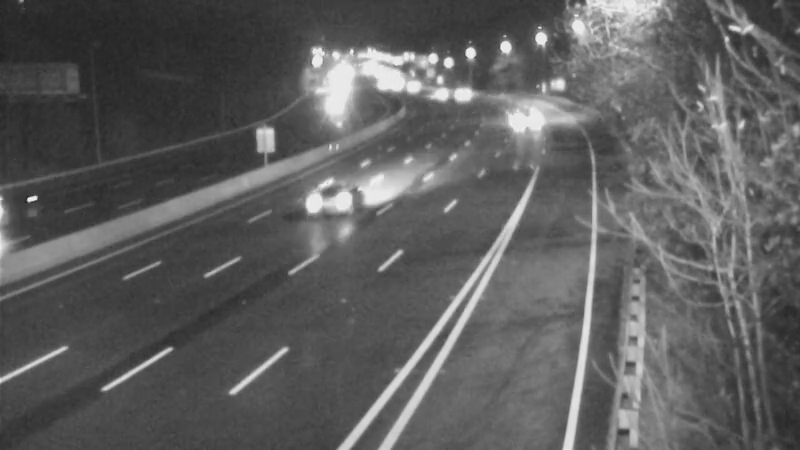vehicle: (288, 170, 368, 250), (1, 167, 64, 247), (439, 69, 489, 119), (410, 67, 460, 117), (500, 96, 550, 146)
